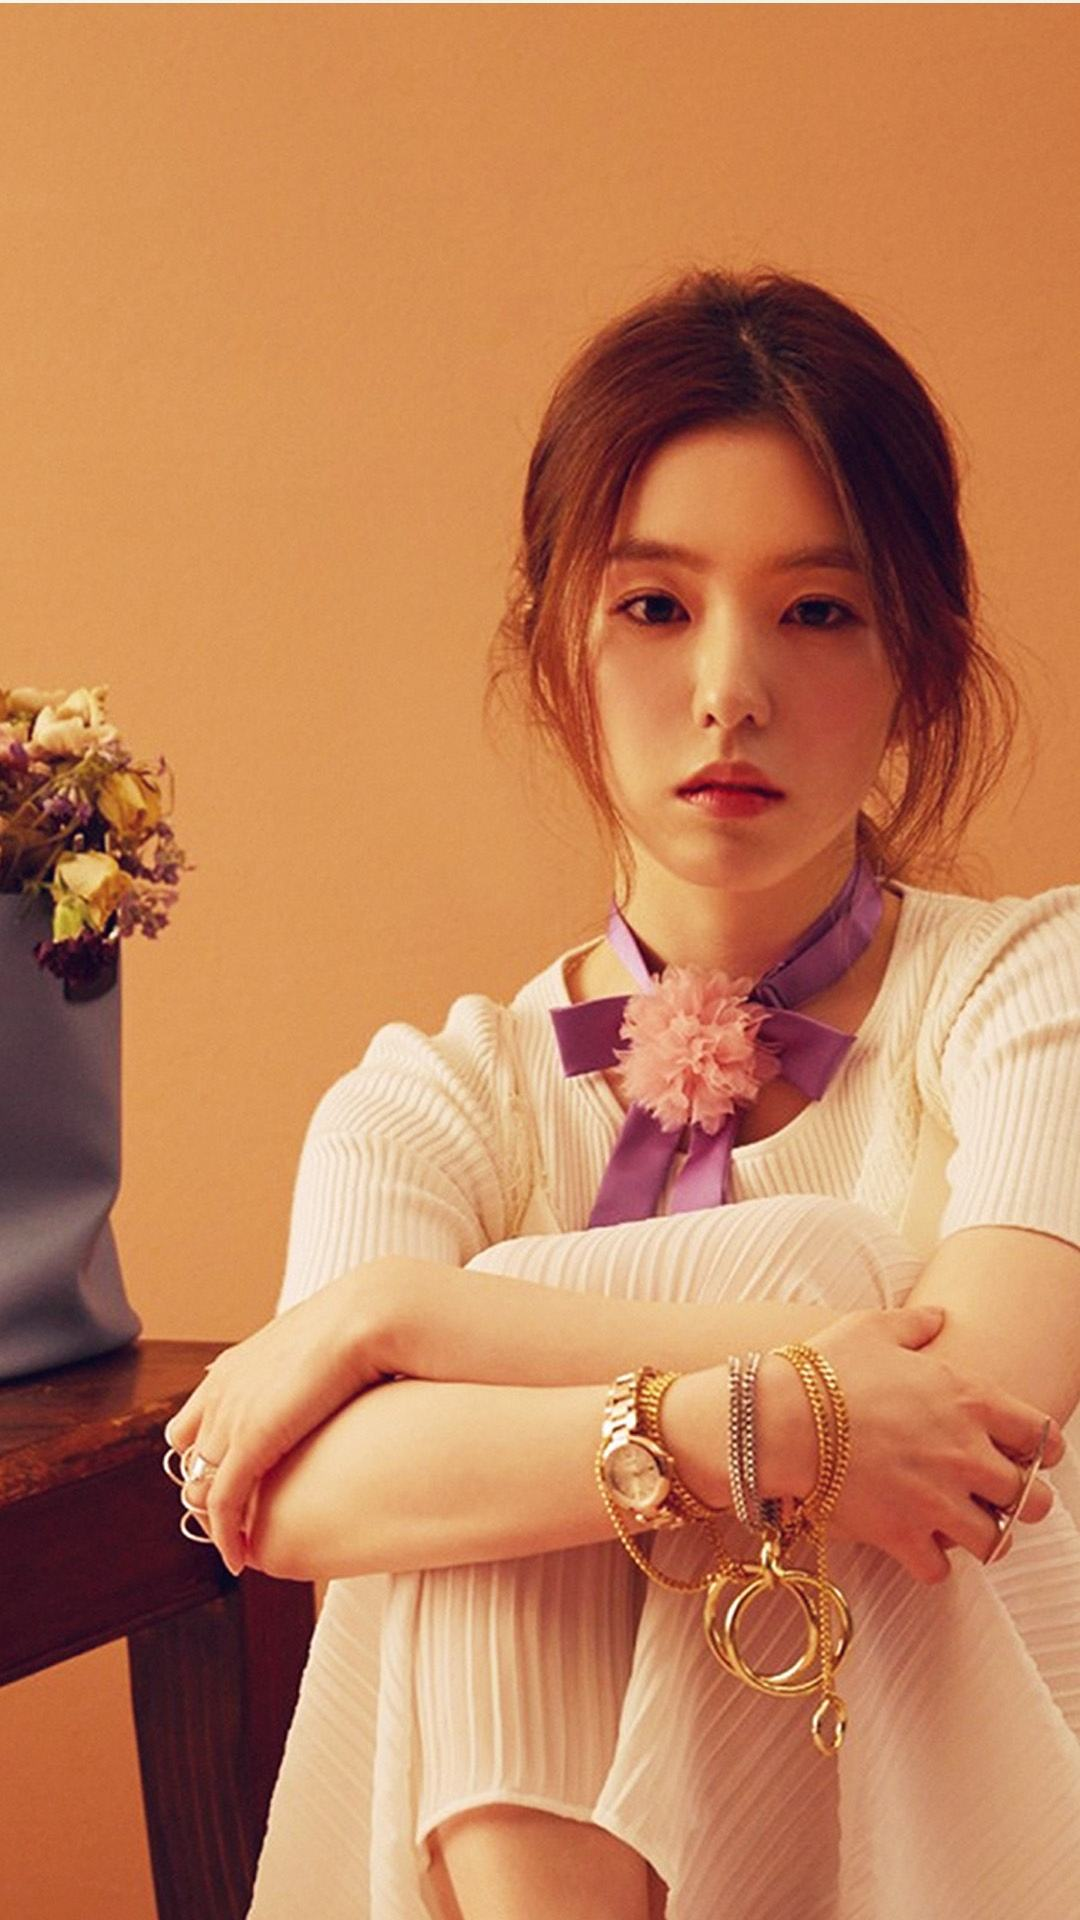person: (247, 286, 1080, 1653)
